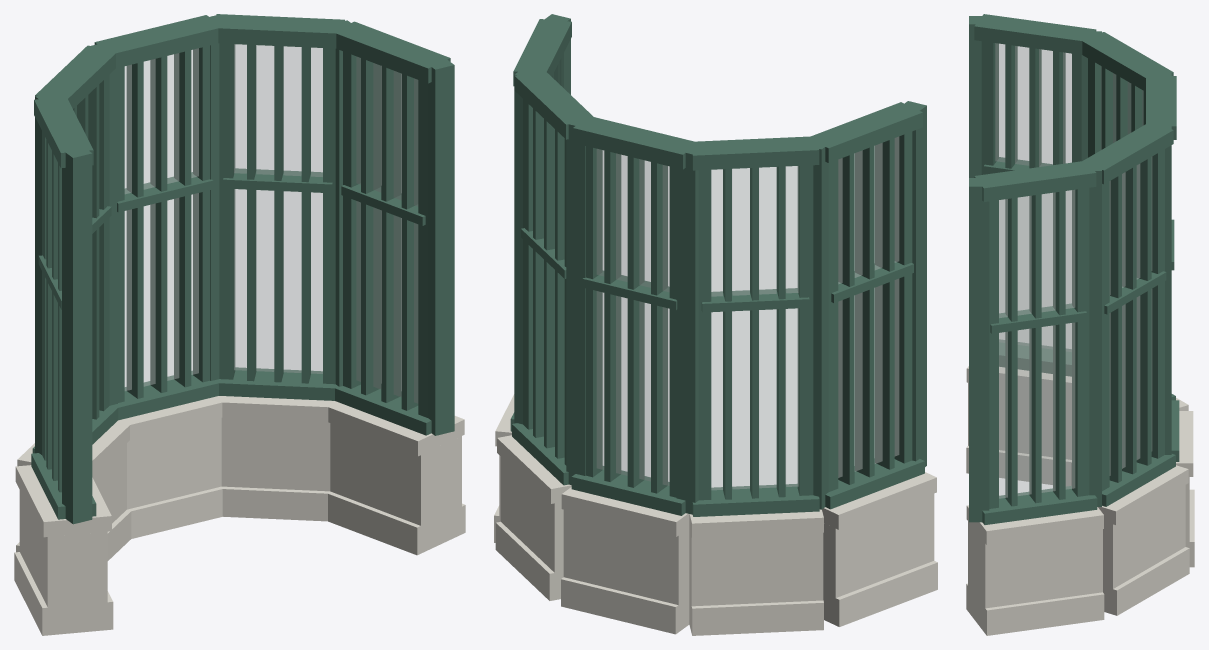
Rendered from botanical-glasshouse-and-palm-house-botanical-glasshou-702d7a24__38532.glb.
3 views of the same model, side by side, from view 1: azimuth 30°, elevation 25°; view 2: azimuth 150°, elevation 25°; view 3: azimuth 270°, elevation 25° (orthographic). The views are drawn at different scales.
Visible parts, largest first — view 1: botanical-glasshouse-and-palm-house-glasshouse-apse-end; view 2: botanical-glasshouse-and-palm-house-glasshouse-apse-end; view 3: botanical-glasshouse-and-palm-house-glasshouse-apse-end.
Boxes of the visible parts, bbox=[...] form: botanical-glasshouse-and-palm-house-glasshouse-apse-end: bbox=[14, 14, 465, 635]; botanical-glasshouse-and-palm-house-glasshouse-apse-end: bbox=[494, 14, 937, 635]; botanical-glasshouse-and-palm-house-glasshouse-apse-end: bbox=[966, 14, 1194, 635].
Size of the model in its own units: 3.51 by 3.8 by 1.79.
